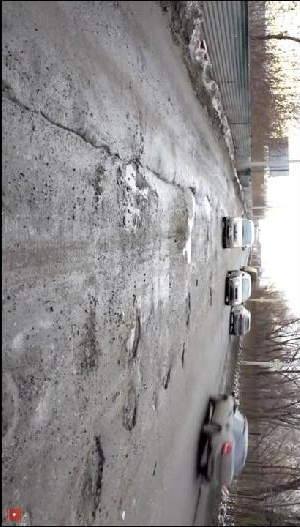pothole: (80, 434, 107, 525), (78, 326, 100, 371), (125, 313, 145, 361), (118, 396, 141, 433), (181, 290, 195, 328), (161, 366, 175, 389), (181, 340, 189, 368)
